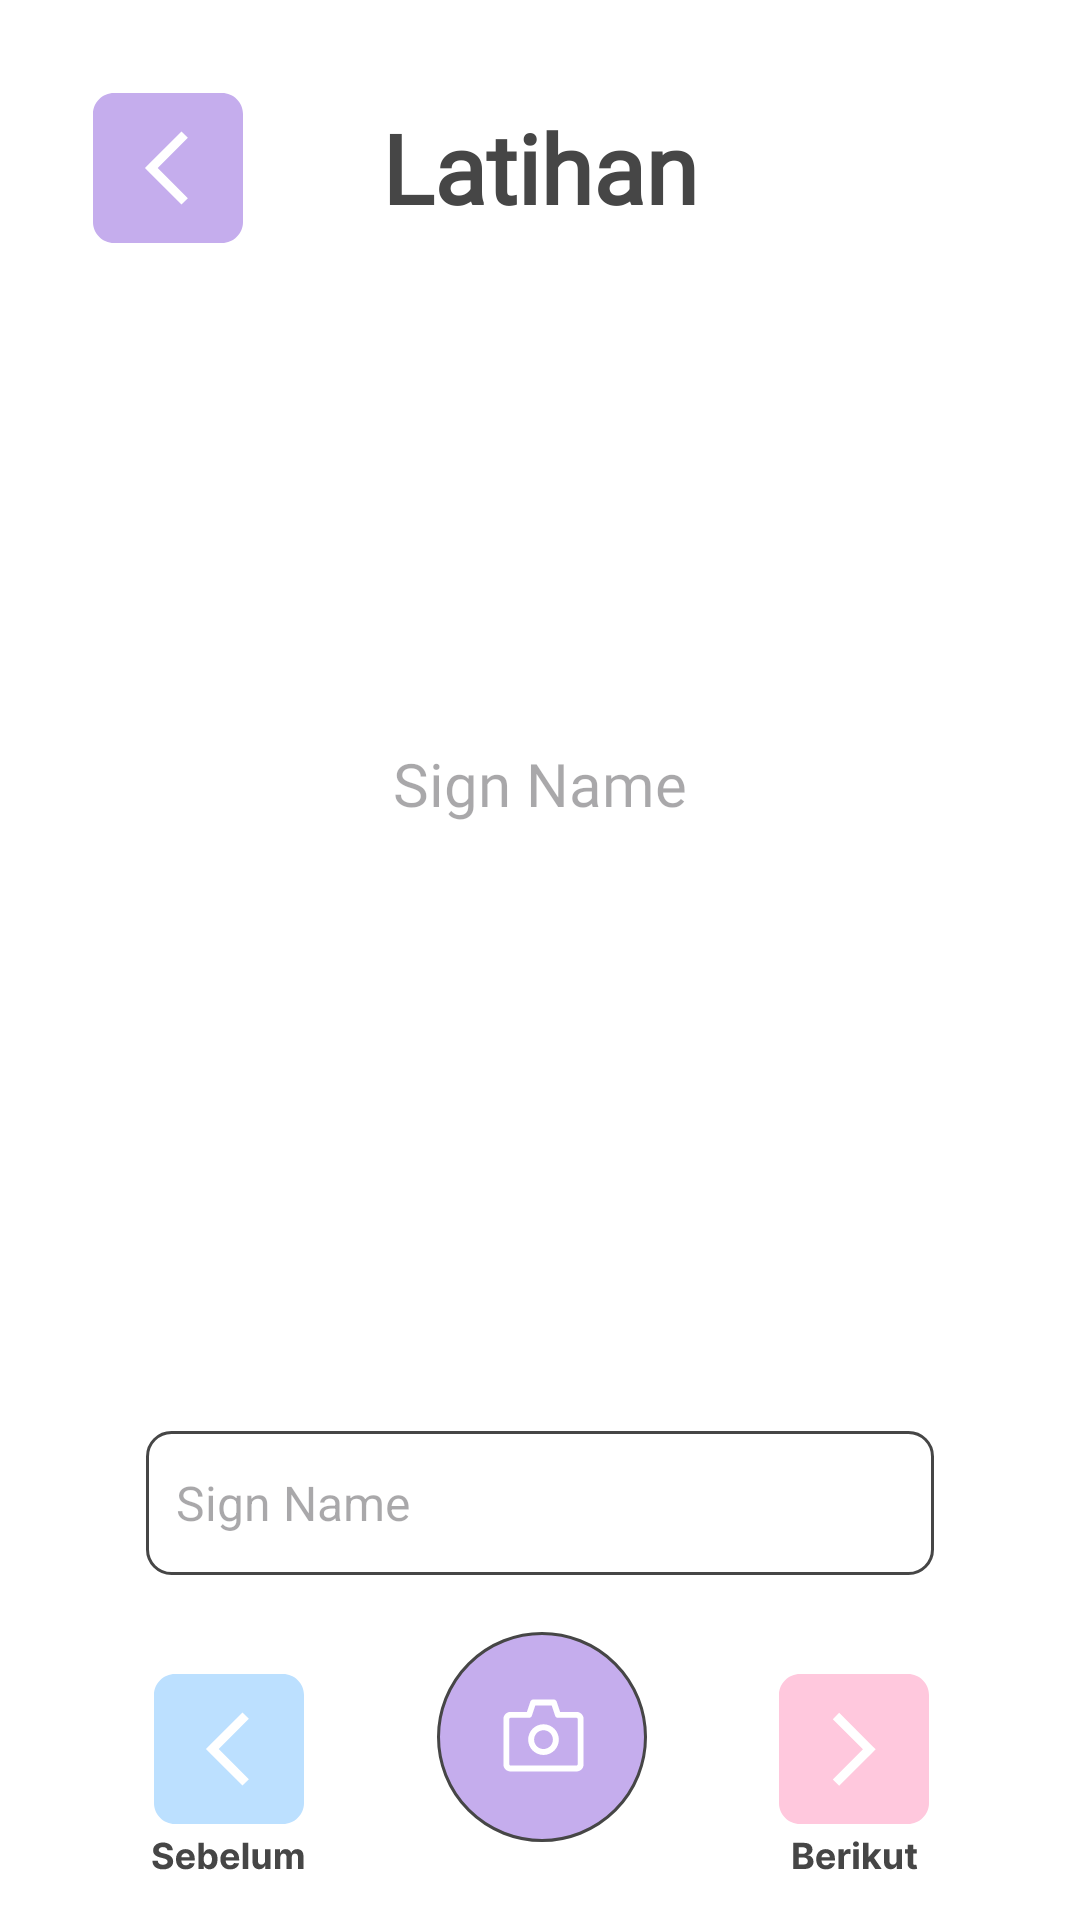

Named icons in this screenshot (1080w x 1920h) and their bounding boxes, [x1, y1, x2, y2]:
back: [93, 93, 243, 243]
camera: [437, 1632, 647, 1842]
